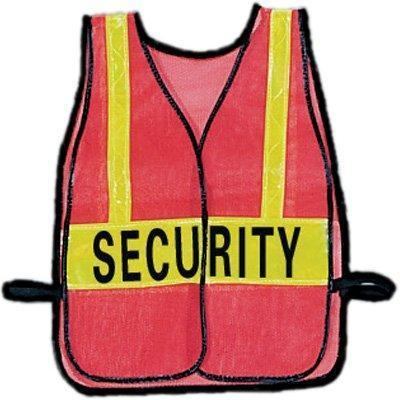vest: (52, 0, 350, 395)
